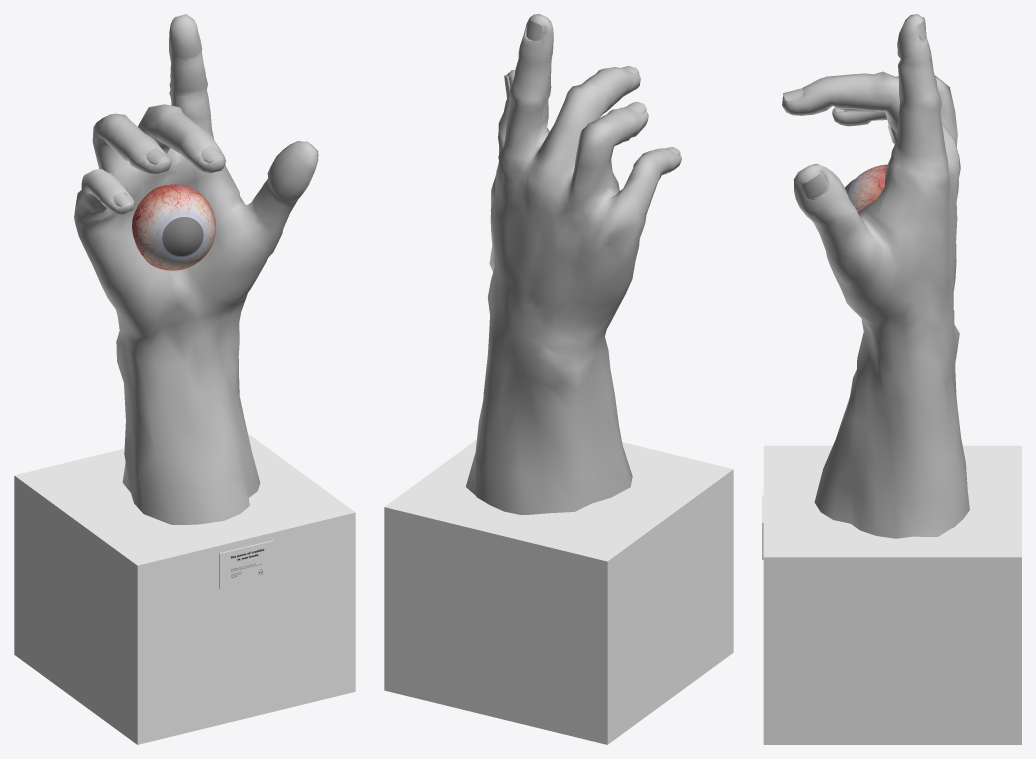
File: Hand 1.fbx
3 renders of one model, left to right at view 1: azimuth 30°, elevation 25°; view 2: azimuth 150°, elevation 25°; view 3: azimuth 270°, elevation 25°, orthographic. The views are drawn at different scales.
Visible parts, largest first — view 1: hand 1, eye; view 2: hand 1; view 3: hand 1, eye.
Part boxes in pixels (left/top/right/bottom): hand 1: left=14, top=14, right=355, bottom=744; eye: left=132, top=184, right=215, bottom=270; hand 1: left=384, top=14, right=733, bottom=744; hand 1: left=762, top=14, right=1021, bottom=744; eye: left=845, top=164, right=886, bottom=212.
Size of the model in its own units: 99.06 by 281 by 97.53.
